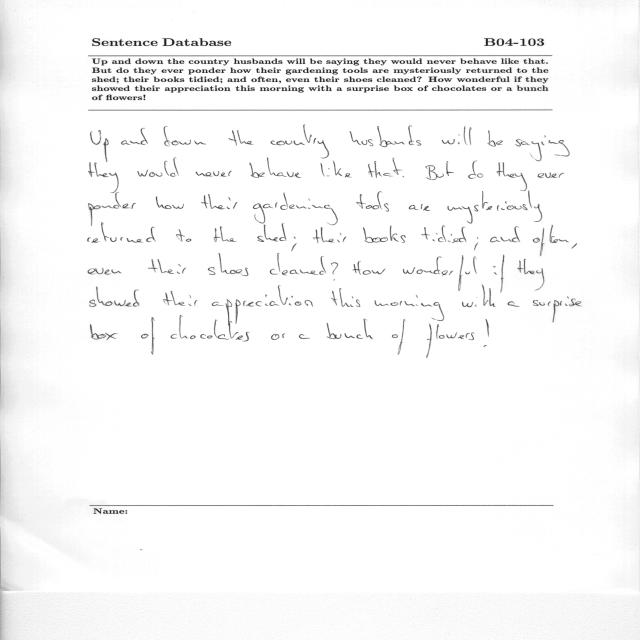word: (212, 285, 313, 324), (448, 191, 543, 224), (253, 193, 338, 225), (403, 255, 477, 291), (170, 308, 250, 341), (426, 318, 487, 358), (271, 125, 329, 159), (375, 295, 444, 321), (89, 192, 136, 226), (350, 126, 422, 147), (515, 136, 570, 162), (88, 223, 156, 243), (496, 155, 533, 191), (533, 297, 582, 323), (270, 254, 326, 276), (533, 225, 569, 256), (250, 157, 302, 178), (90, 286, 139, 307), (89, 162, 119, 193), (208, 253, 248, 276), (327, 319, 373, 339), (518, 259, 545, 291), (164, 126, 207, 146), (137, 157, 179, 177), (422, 225, 467, 243), (462, 286, 496, 308), (363, 226, 406, 243), (368, 158, 404, 178), (356, 191, 389, 212), (91, 130, 109, 162), (148, 259, 186, 274), (201, 194, 238, 209), (258, 223, 287, 242), (331, 288, 360, 307), (321, 161, 353, 178), (442, 127, 472, 145), (141, 317, 155, 355), (313, 227, 346, 243), (163, 291, 198, 306), (490, 227, 520, 243), (352, 261, 386, 275), (90, 324, 118, 341), (392, 319, 405, 355), (121, 128, 148, 145), (494, 255, 505, 293), (229, 130, 254, 146), (214, 227, 237, 243), (156, 196, 184, 209), (425, 165, 444, 180), (468, 161, 483, 179), (488, 130, 503, 147), (88, 268, 122, 275), (195, 171, 232, 177), (176, 229, 191, 242), (409, 204, 430, 211), (538, 173, 565, 178), (446, 161, 454, 176), (271, 333, 285, 340), (331, 262, 338, 275), (291, 237, 297, 252), (508, 301, 520, 307), (485, 319, 489, 337), (474, 237, 478, 251), (299, 334, 310, 339), (572, 243, 577, 249)
